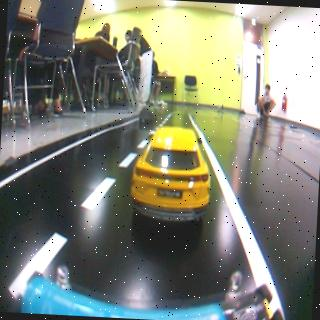car: (136, 124, 213, 223), (136, 105, 152, 122)
